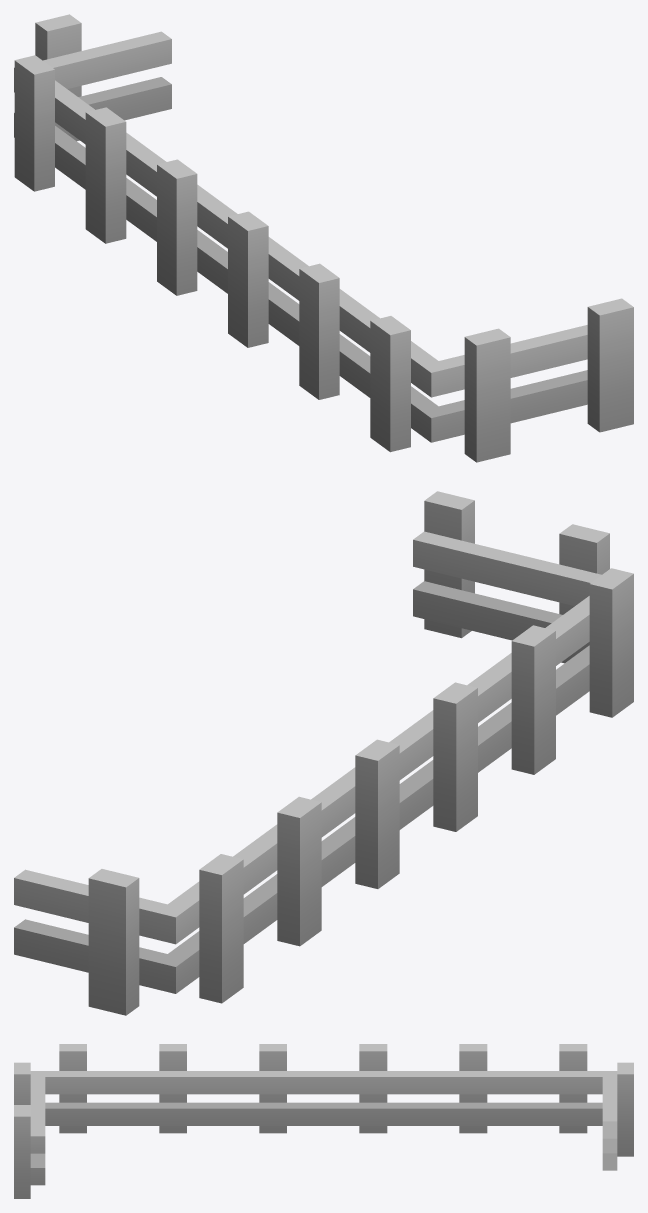
The model's file is fence white.fbx.
3 renders of one model, top to bottom at view 1: azimuth 30°, elevation 25°; view 2: azimuth 150°, elevation 25°; view 3: azimuth 270°, elevation 25°, orthographic. The views are drawn at different scales.
Visible parts, largest first — view 1: fence_white; view 2: fence_white; view 3: fence_white.
Part boxes in pixels (x1,y1,x2,y2): fence_white: (14,14,633,462); fence_white: (14,491,633,1015); fence_white: (14,1044,633,1198).
Size of the model in its own units: 206 by 109 by 745.
1 material, 1 textured.
